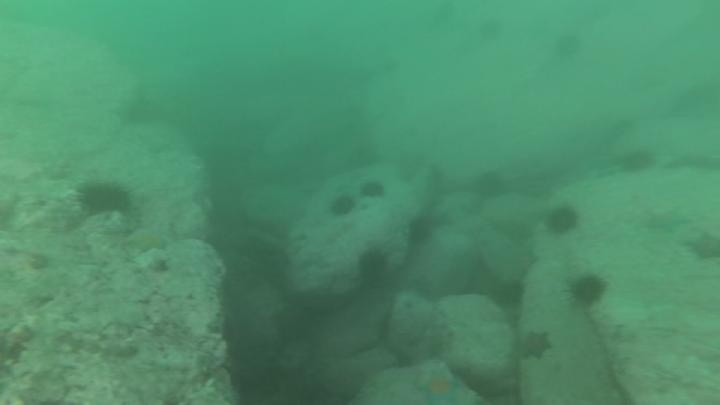echinus: (76, 178, 133, 218), (119, 94, 164, 131), (566, 271, 609, 309), (355, 246, 392, 287), (543, 203, 581, 238), (489, 277, 527, 312), (617, 146, 657, 177), (471, 169, 508, 202), (551, 29, 585, 61), (405, 214, 436, 248), (475, 15, 506, 44), (327, 192, 357, 220), (358, 178, 388, 202)
starfish: (414, 365, 465, 405), (644, 206, 693, 236), (515, 328, 554, 364), (125, 226, 171, 255), (684, 229, 720, 264)
